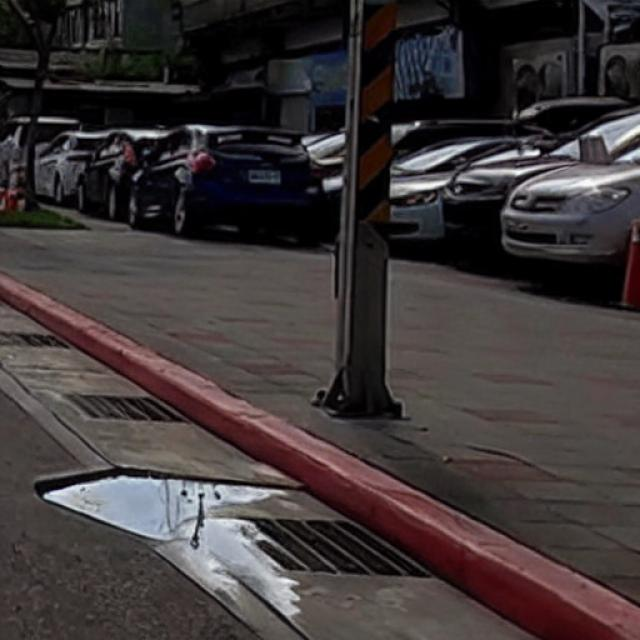puddle: (38, 467, 305, 620)
